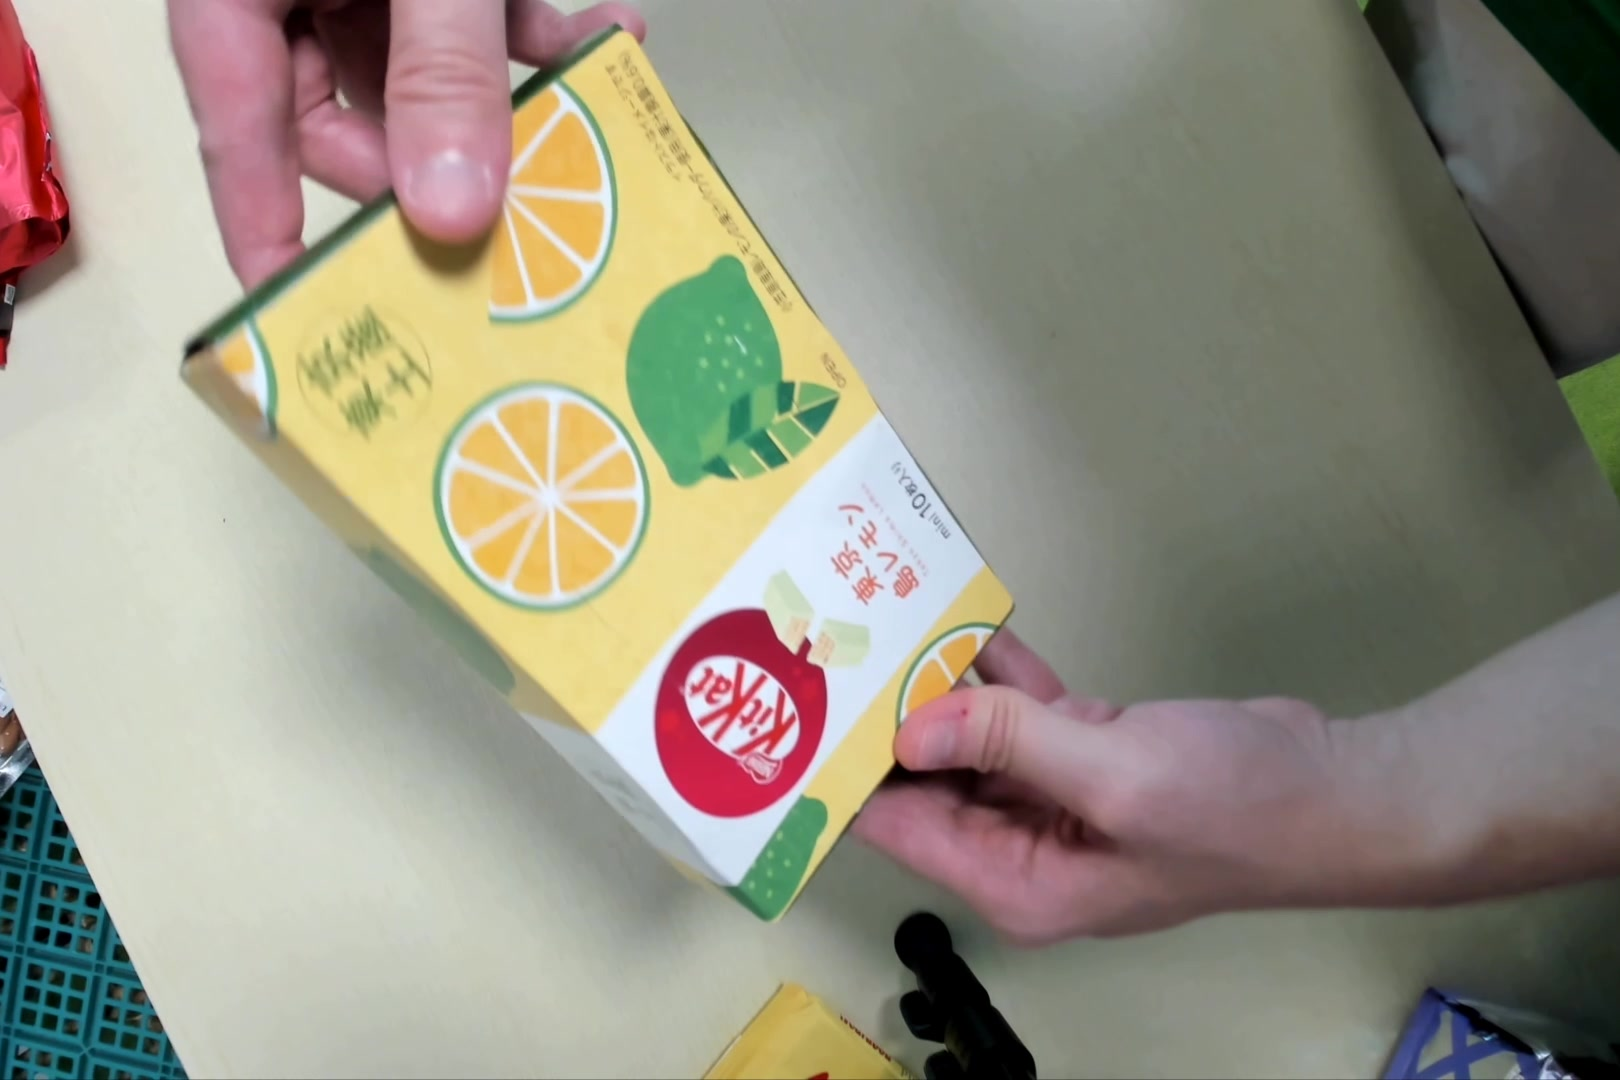SweetsChocolatesOthers_100-199g_NonHalal_NonHealthy: (184, 27, 1016, 931)
